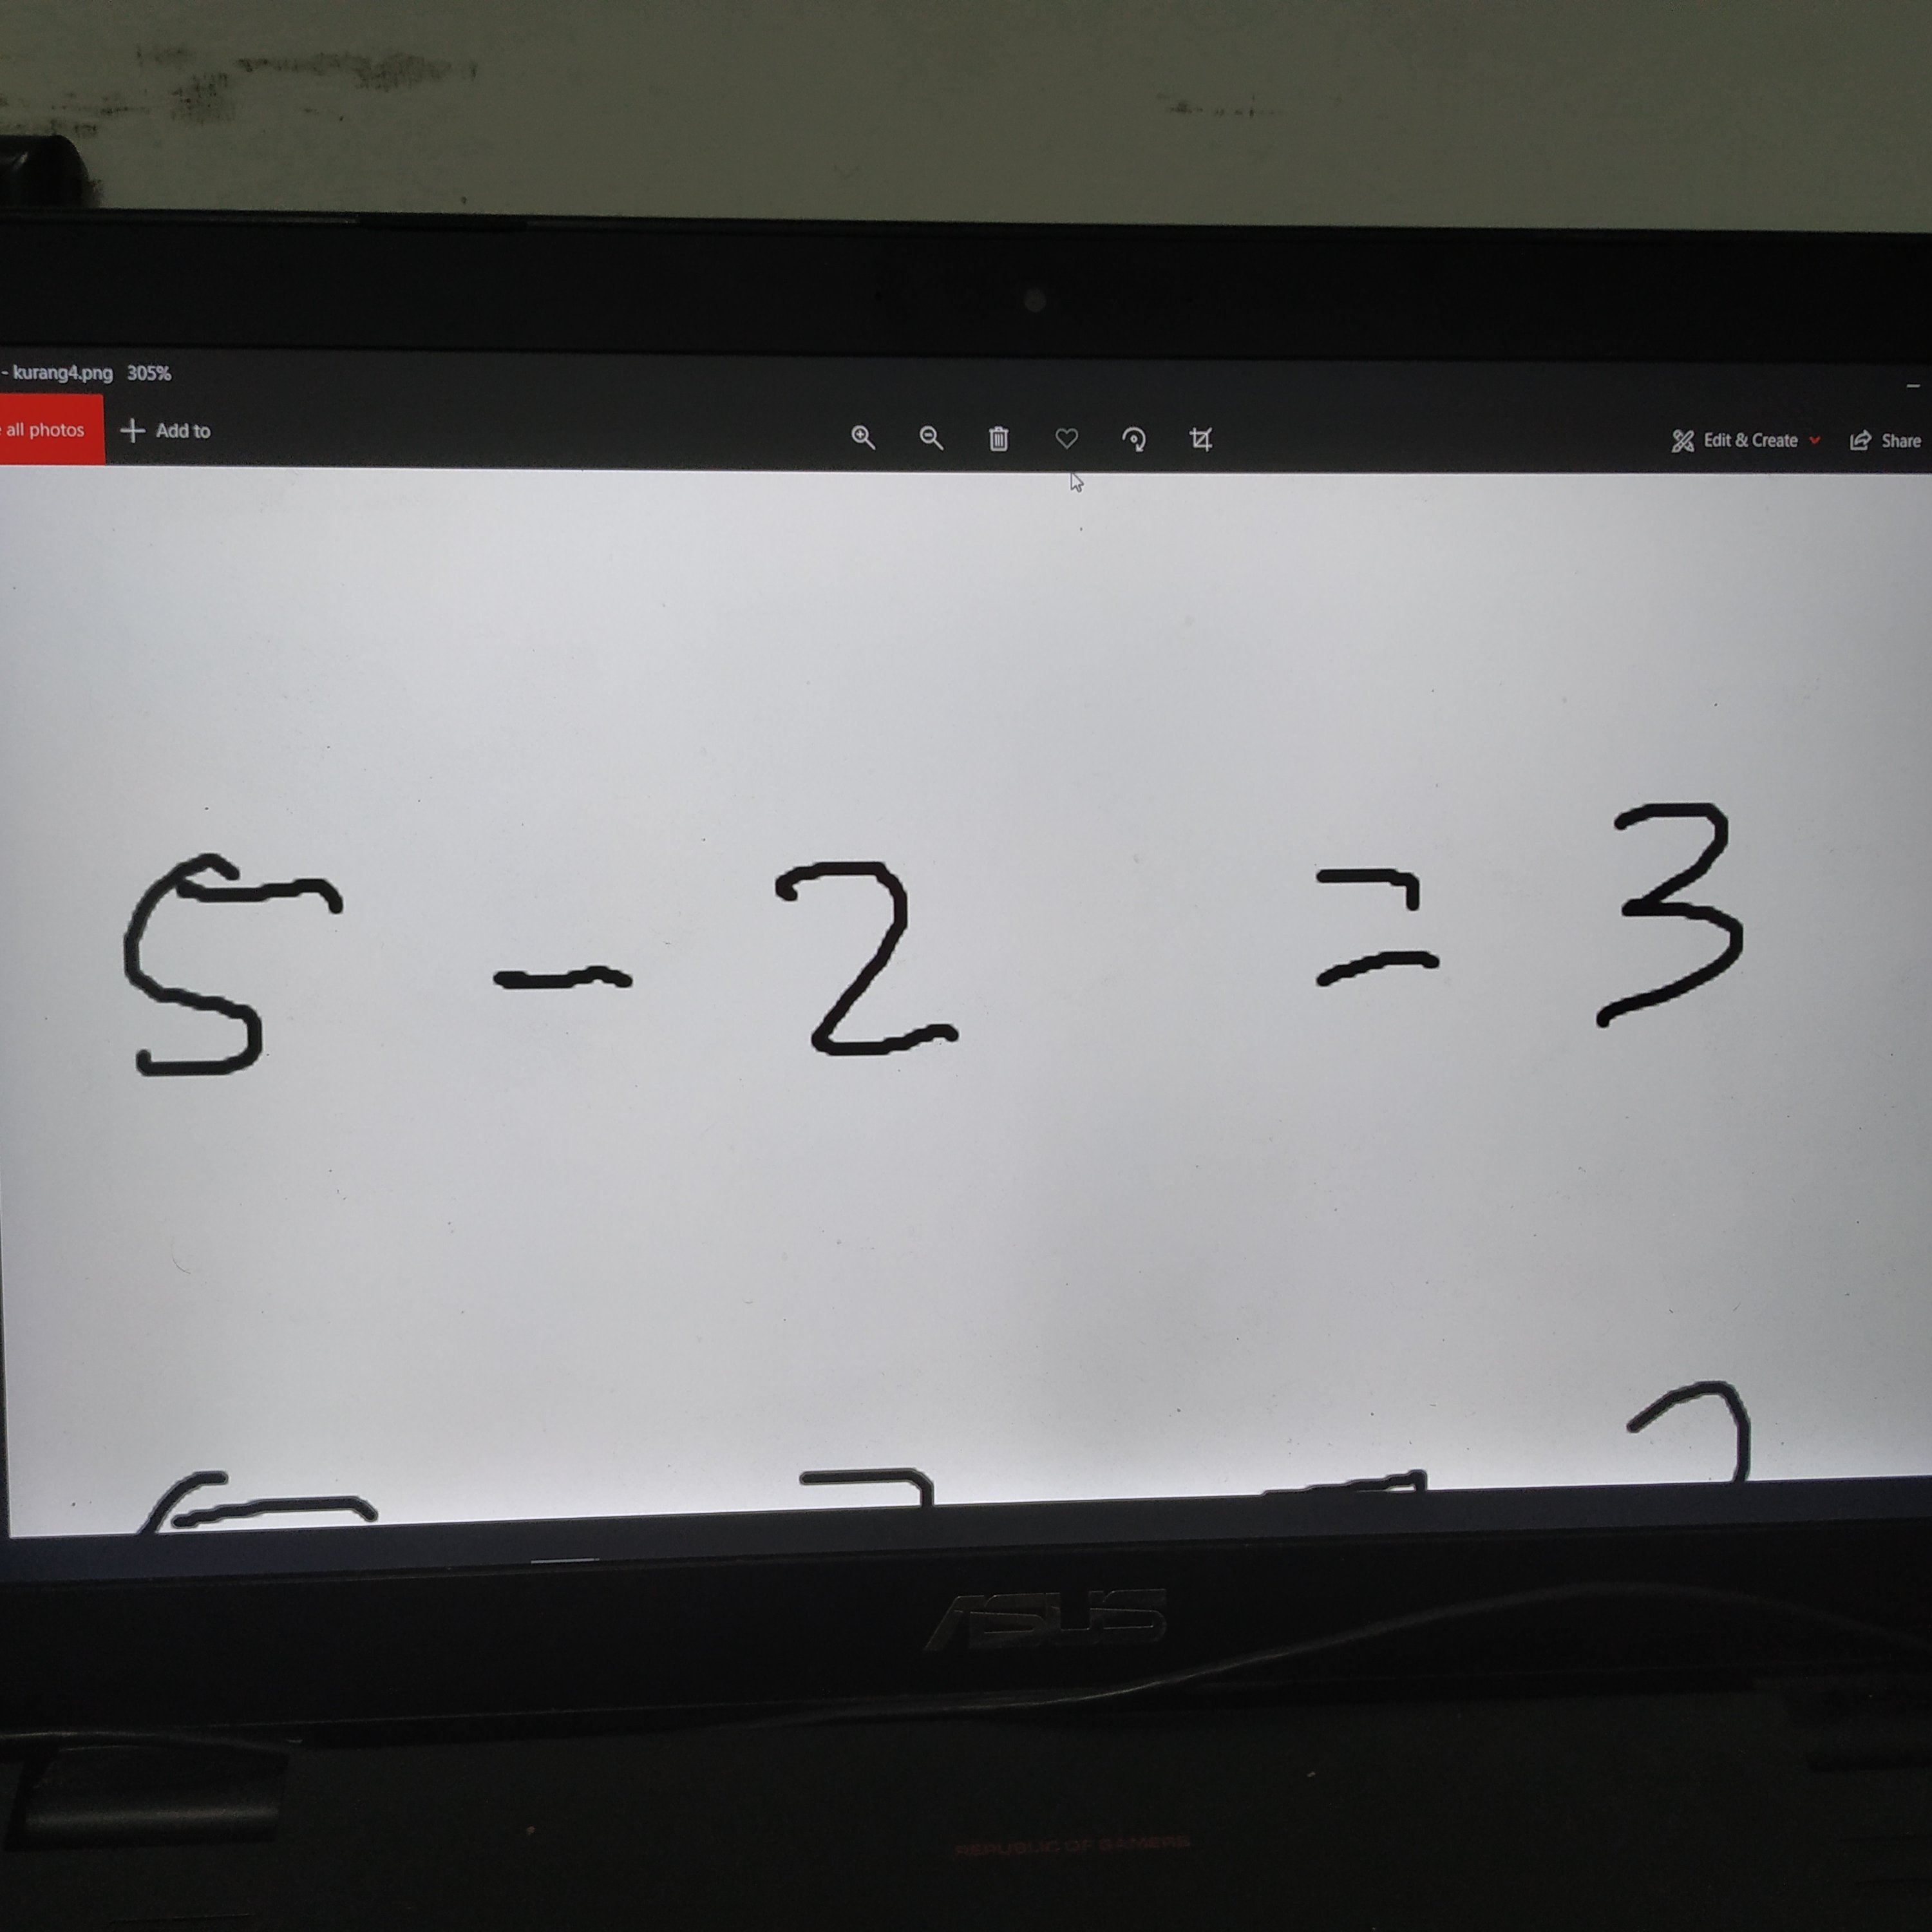equal: (1284, 841, 1472, 1007)
min: (474, 947, 665, 1022)
num2: (734, 846, 1012, 1082)
num3: (1575, 783, 1777, 1043)
num5: (90, 833, 368, 1101)
